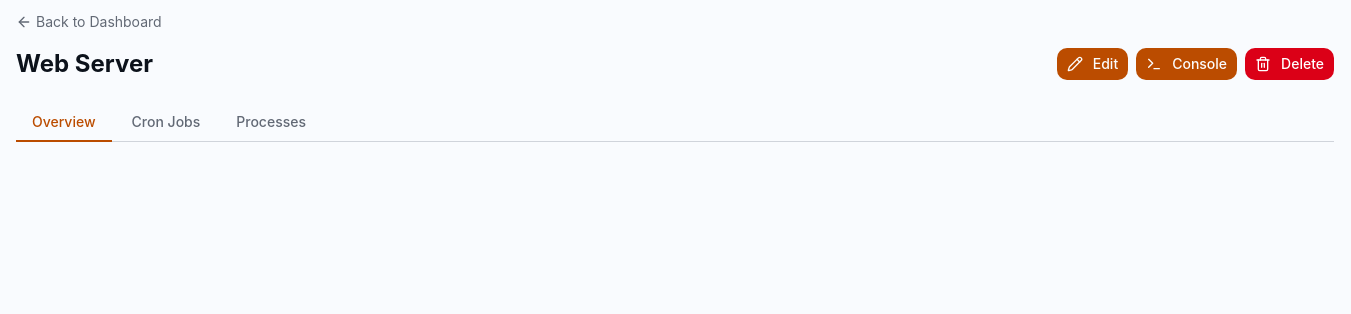
Test case: ServerDetail — tabs › Cron Jobs tab renders entry with schedule and command columns
Click the tab "Cron Jobs" at (166,123), box x1=116 y1=104 x2=216 y2=142
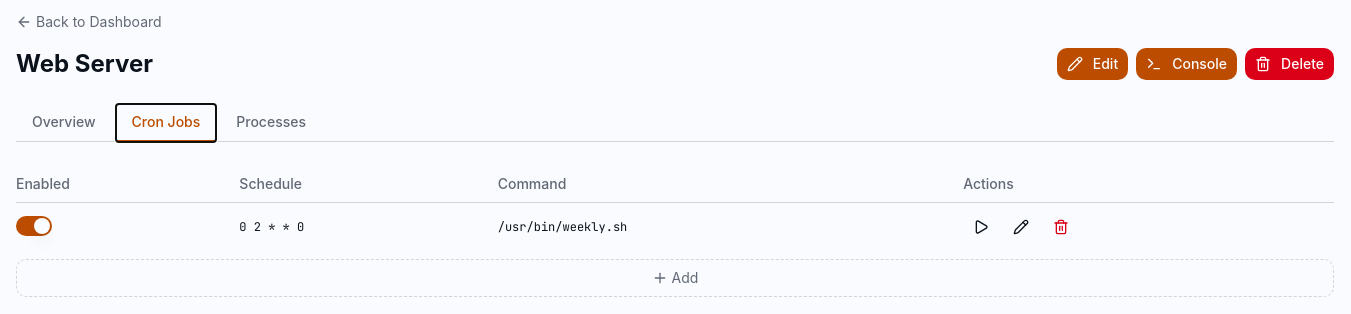
Check: the text "/usr/bin/weekly.sh" is shown, box x1=498 y1=202 x2=963 y2=251
Check: the text "0 2 * * 0" is shown, box x1=239 y1=202 x2=498 y2=251
